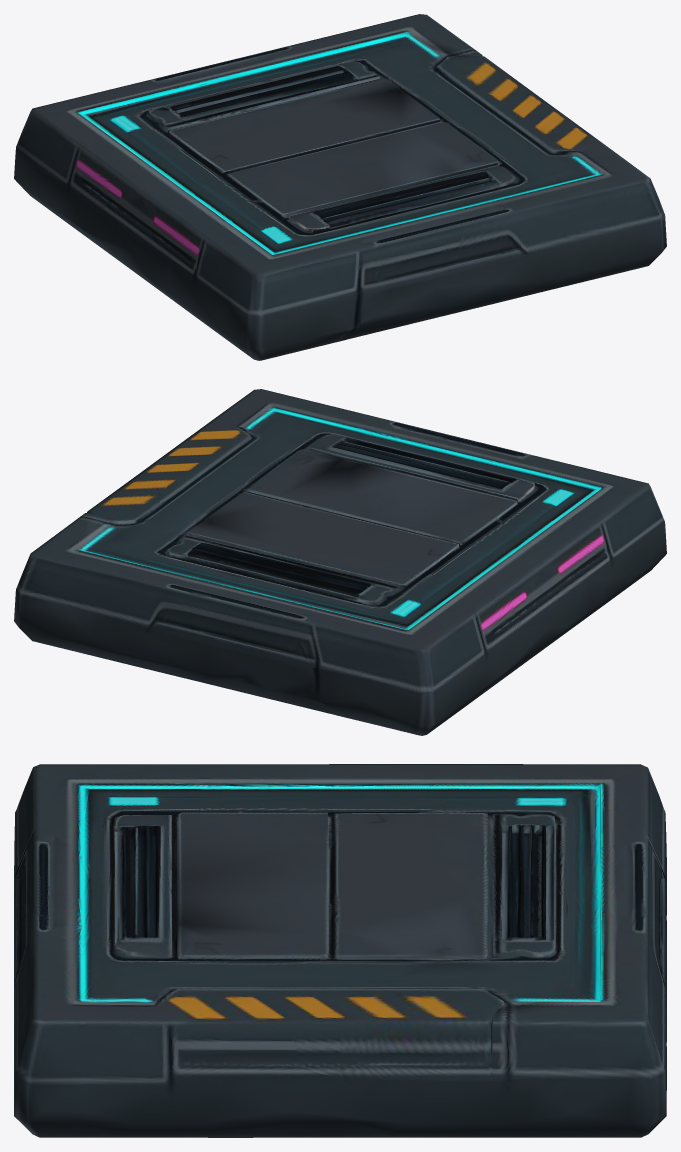
The model's file is Ground.fbx.
The picture shows the model from 3 angles, top to bottom: view 1: azimuth 30°, elevation 25°; view 2: azimuth 150°, elevation 25°; view 3: azimuth 270°, elevation 25°; orthographic projection. The views are drawn at different scales.
Parts seen in each view (by area): view 1: tripo_node_b73897e6; view 2: tripo_node_b73897e6; view 3: tripo_node_b73897e6.
Boxes of the visible parts, left/top/right/bottom form: tripo_node_b73897e6: left=14, top=14, right=666, bottom=360; tripo_node_b73897e6: left=14, top=389, right=666, bottom=735; tripo_node_b73897e6: left=14, top=764, right=666, bottom=1137.
Bounding box in the file's own units: 1 × 0.2189 × 0.9997.
1 material, 1 textured.
